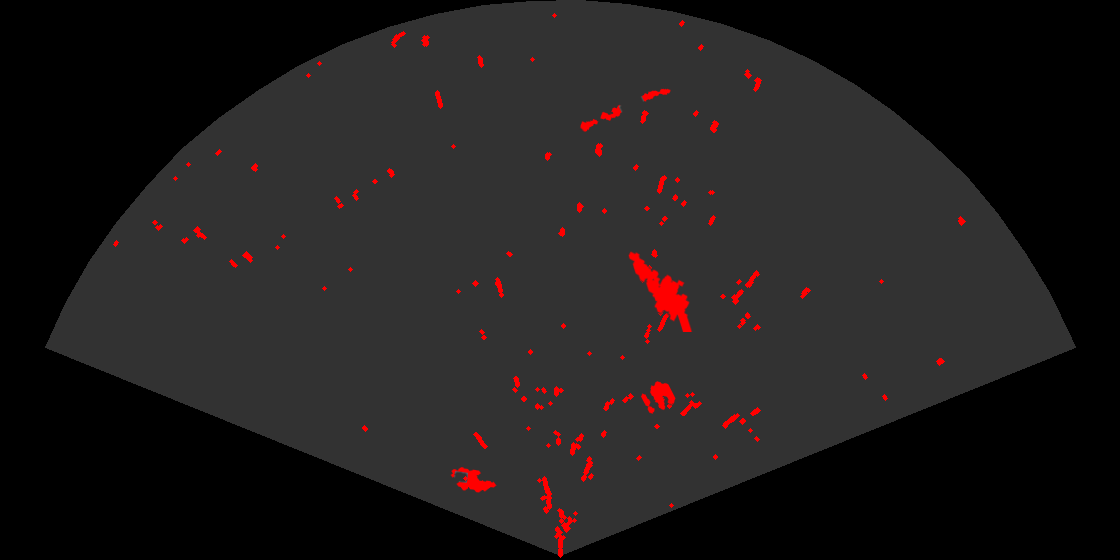AUV: (449, 466, 498, 494)
ball: (639, 380, 677, 415)
chain: (579, 87, 672, 133)
frogman: (627, 250, 694, 332)
